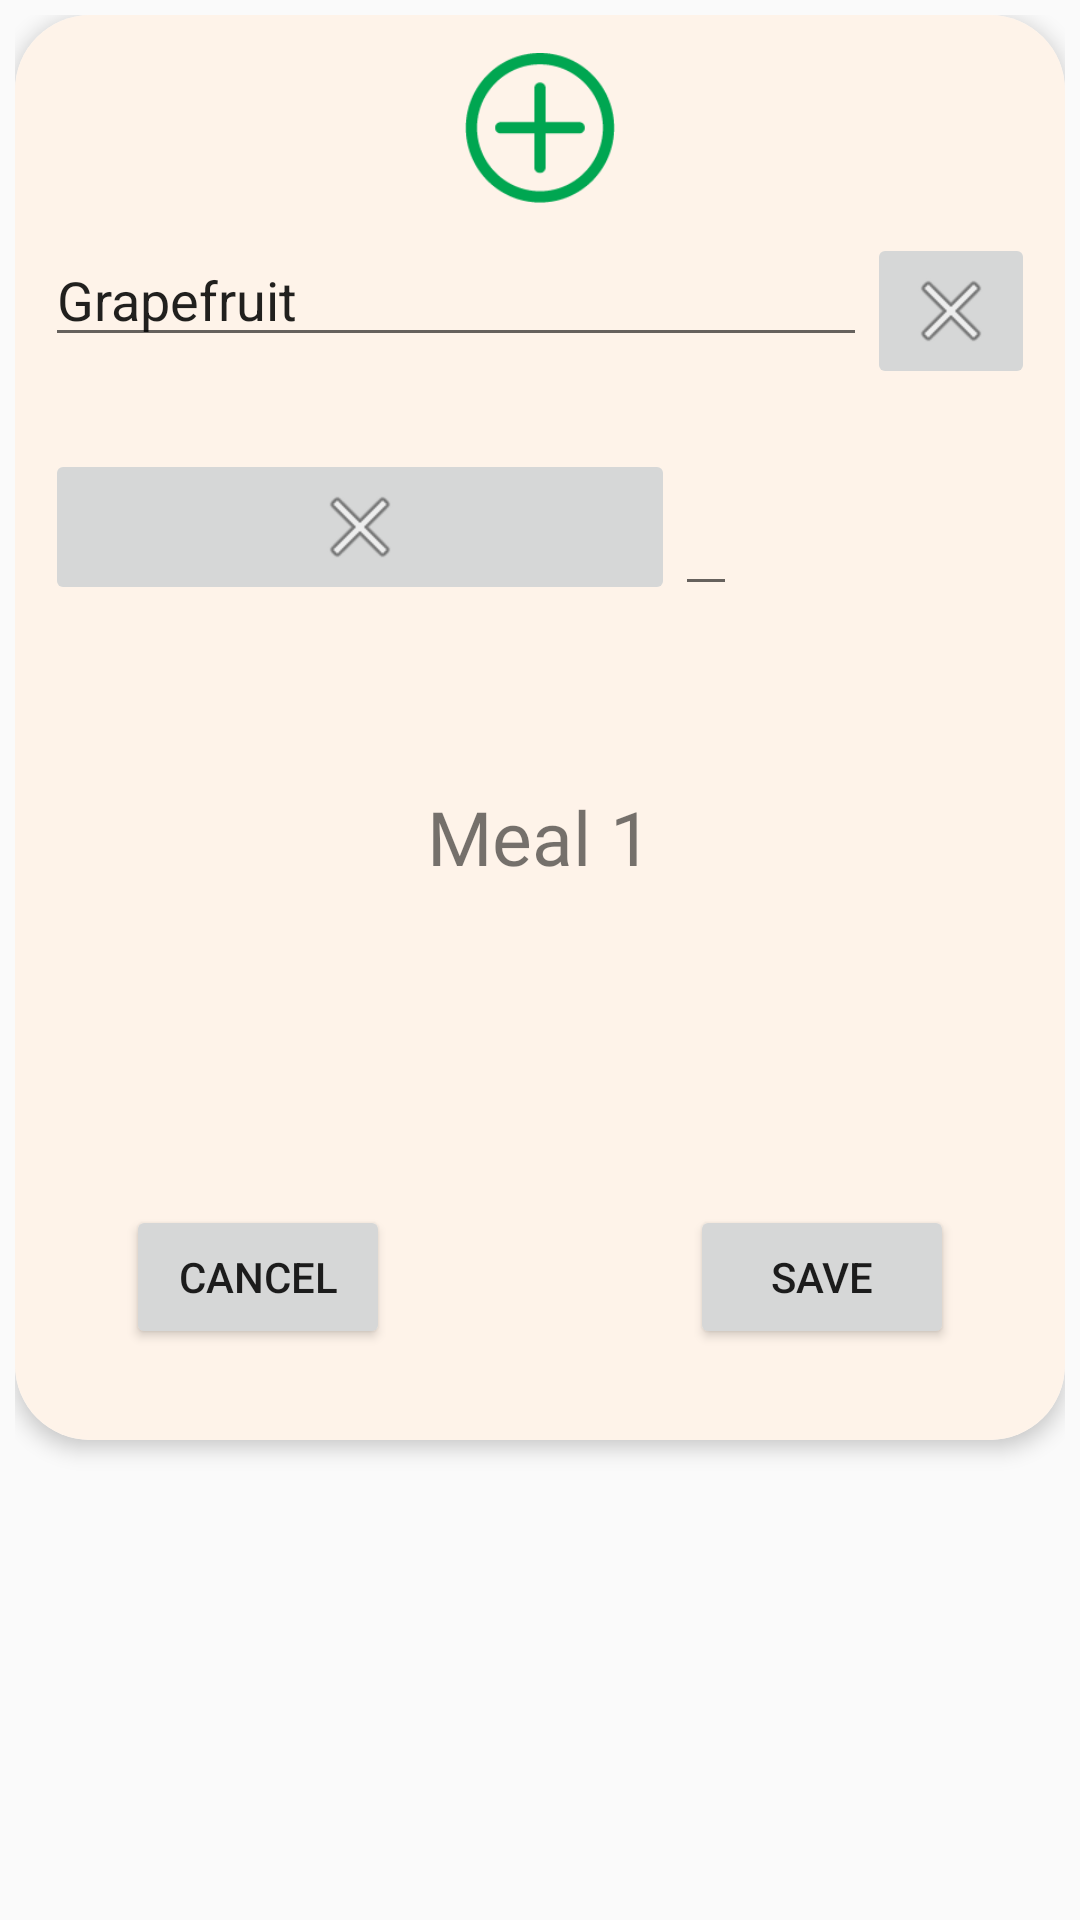

Icons on this 1080px×1920px Android screen, each with the point to tap as point (x, y):
add: point (540, 128)
